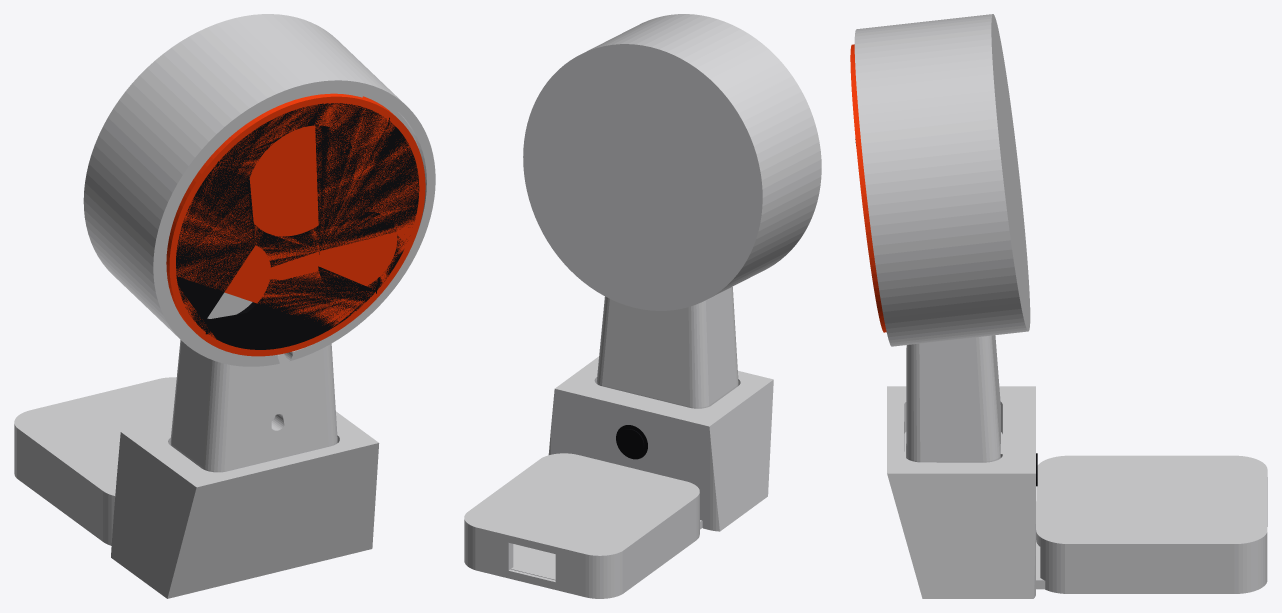
The model's file is StudySense_V7_Final_Complete_Assembly.obj.
3 views of the same model, side by side, from view 1: azimuth 30°, elevation 25°; view 2: azimuth 150°, elevation 25°; view 3: azimuth 270°, elevation 25° (orthographic). The views are drawn at different scales.
Visible parts, largest first — view 1: 02_Neck_and_Head_Pod, 01_Base_Pedestal, 04_Accent_Ring_Orange, 03_Sensor_Faceplate_Black; view 2: 02_Neck_and_Head_Pod, 01_Base_Pedestal, 05_Base_Bottom_Cover, 06_Button_Cap; view 3: 02_Neck_and_Head_Pod, 01_Base_Pedestal, 04_Accent_Ring_Orange.
Part boxes in pixels (x1=…): 02_Neck_and_Head_Pod: x1=83, y1=14, x2=435, y2=472; 01_Base_Pedestal: x1=14, y1=377, x2=379, y2=598; 04_Accent_Ring_Orange: x1=166, y1=93, x2=425, y2=356; 03_Sensor_Faceplate_Black: x1=176, y1=103, x2=419, y2=349; 02_Neck_and_Head_Pod: x1=523, y1=14, x2=821, y2=408; 01_Base_Pedestal: x1=464, y1=356, x2=773, y2=598; 05_Base_Bottom_Cover: x1=511, y1=520, x2=702, y2=580; 06_Button_Cap: x1=616, y1=425, x2=647, y2=459; 02_Neck_and_Head_Pod: x1=854, y1=14, x2=1030, y2=462; 01_Base_Pedestal: x1=887, y1=386, x2=1267, y2=598; 04_Accent_Ring_Orange: x1=850, y1=44, x2=886, y2=332.
Bounding box in the file's own units: 58 × 104 × 75.7.
